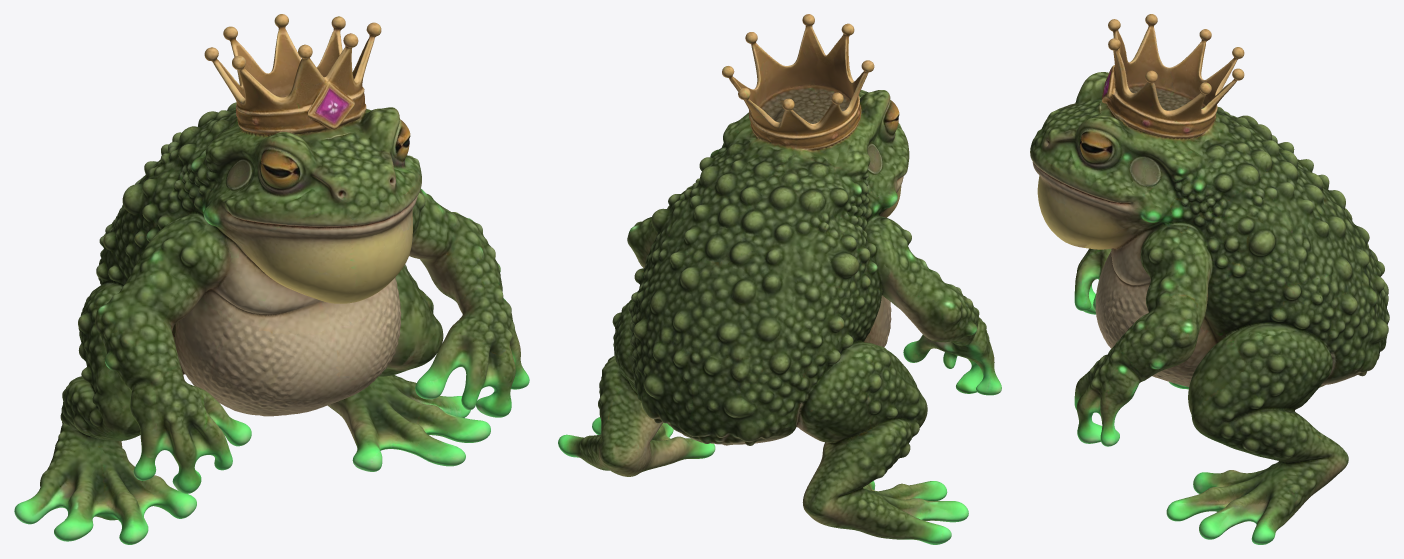
The model's file is Frog-Meshy-compressed.glb.
3 views of the same model, side by side, from view 1: azimuth 30°, elevation 25°; view 2: azimuth 150°, elevation 25°; view 3: azimuth 270°, elevation 25° (orthographic). The views are drawn at different scales.
Visible parts, largest first — view 1: mesh_0; view 2: mesh_0; view 3: mesh_0.
Boxes of the visible parts, <box> form: mesh_0: <box>14,14,529,544</box>; mesh_0: <box>558,14,1001,544</box>; mesh_0: <box>1030,14,1389,544</box>.
Bounding box in the file's own units: 1.82 × 1.9 × 1.45.
Materials: 1 (1 with a texture image).
